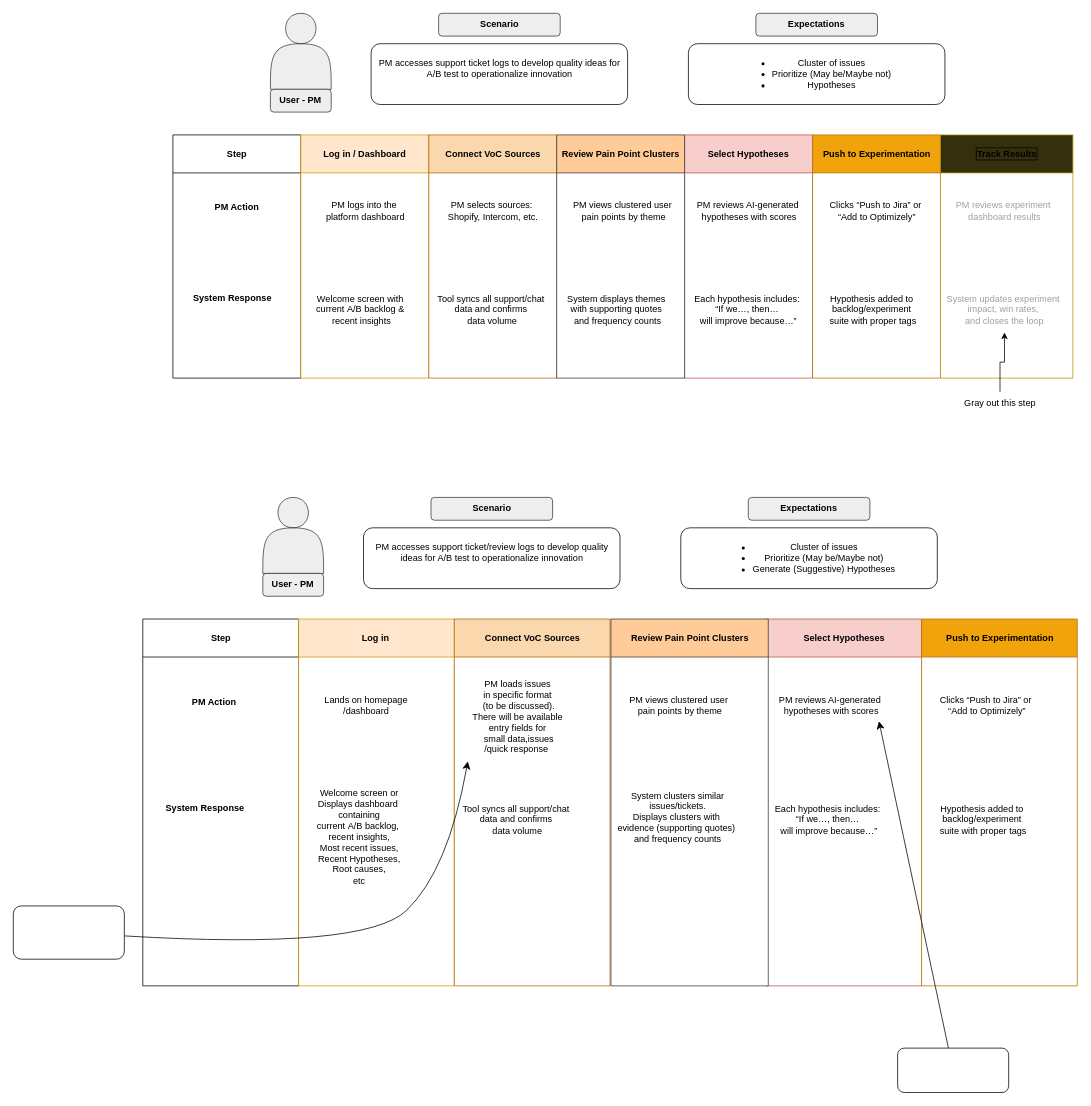
The diagram is 1091 pixels wide and 1106 high, and some of its shapes have lost their labels. The centre of each missing label's shape, as x and y in pixels:
"How will output appear? What format?" goes at [953,1069].
"Input" goes at [68,932].
